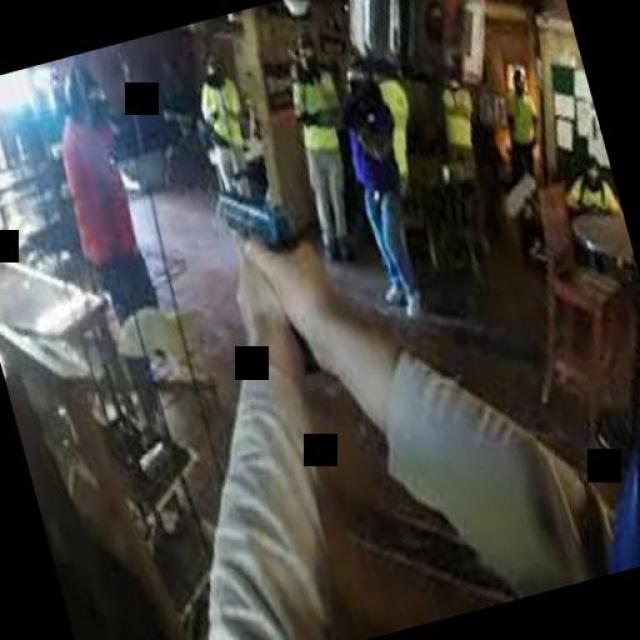gun: (202, 166, 332, 402)
